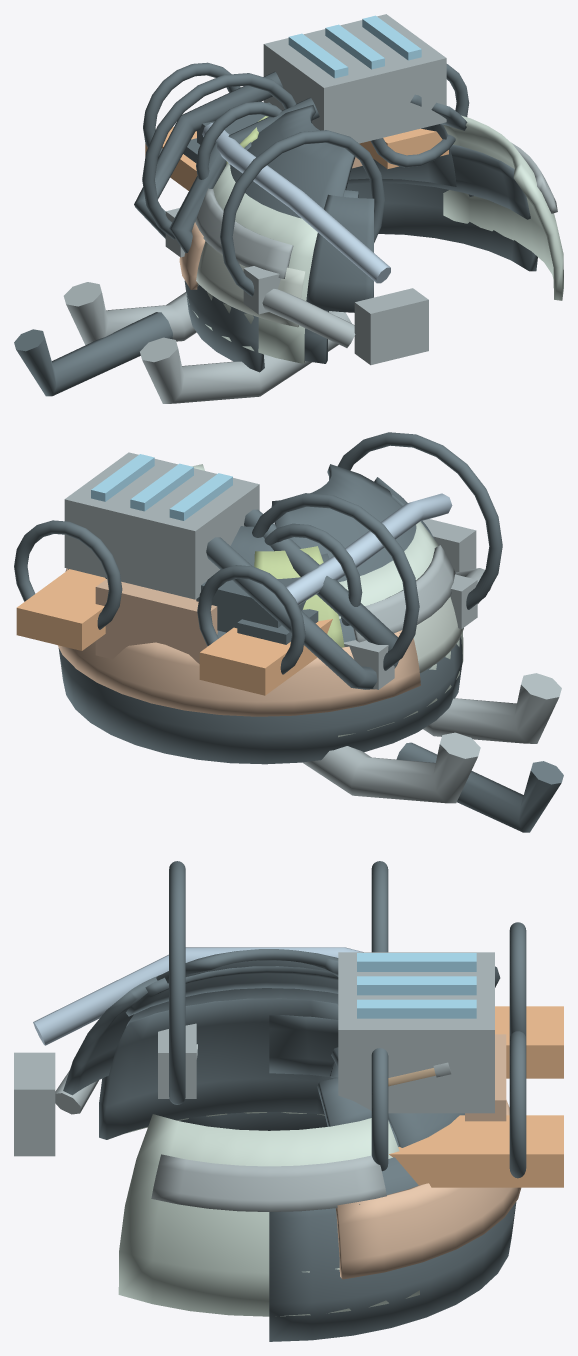
File: weapon-mount.glb
The picture shows the model from 3 angles, top to bottom: view 1: azimuth 30°, elevation 25°; view 2: azimuth 150°, elevation 25°; view 3: azimuth 270°, elevation 25°; orthographic projection. The views are drawn at different scales.
Parts seen in each view (by area): view 1: chain:mount-carbon (×2), bazooka:mount-carbon (×3), photon:mount-steel, dual:mount-dual (×2), chain:mount-steel (×2), flamethrower:mount-carbon (×4), photon:mount-carbon (×2), sniper:mount-carbon, sniper:mount-steel, sniper:mount-sniper, dual:mount-steel (×2), dual:mount-carbon (+8 smaller); view 2: chain:mount-carbon (×2), chain:mount-chain (×2), photon:mount-steel, bazooka:mount-carbon (×3), chain:mount-steel (×2), flamethrower:mount-flamethrower (×2), flamethrower:mount-carbon (×3), photon:mount-carbon (×3), photon:mount-photon (×3), sniper:mount-sniper, dual:mount-steel, dual:mount-dual (+6 smaller); view 3: dual:mount-dual, chain:mount-carbon, smg:mount-carbon, photon:mount-steel, chain:mount-chain (×2), flamethrower:mount-flamethrower (×2), dual:mount-steel, bazooka:mount-carbon (×3), photon:mount-photon (×3), flamethrower:mount-carbon (×3), shotgun:mount-carbon, sniper:mount-steel (+6 smaller).
Boxes of the visible parts, left/top/right/bottom form: chain:mount-carbon (×2): left=14, top=183, right=537, bottom=396; bazooka:mount-carbon (×3): left=142, top=73, right=385, bottom=296; photon:mount-steel: left=263, top=14, right=446, bottom=143; dual:mount-dual (×2): left=186, top=115, right=563, bottom=363; chain:mount-steel (×2): left=63, top=282, right=351, bottom=403; flamethrower:mount-carbon (×4): left=143, top=62, right=469, bottom=186; photon:mount-carbon (×2): left=134, top=71, right=319, bottom=253; sniper:mount-carbon: left=306, top=194, right=374, bottom=312; sniper:mount-steel: left=354, top=288, right=428, bottom=365; sniper:mount-sniper: left=202, top=123, right=390, bottom=283; dual:mount-steel (×2): left=195, top=142, right=557, bottom=278; dual:mount-carbon: left=348, top=144, right=530, bottom=219; chain:mount-carbon (×2): left=58, top=618, right=563, bottom=832; chain:mount-chain (×2): left=58, top=568, right=420, bottom=716; photon:mount-steel: left=64, top=452, right=259, bottom=599; bazooka:mount-carbon (×3): left=252, top=432, right=502, bottom=670; chain:mount-steel (×2): left=302, top=673, right=561, bottom=803; flamethrower:mount-flamethrower (×2): left=16, top=569, right=332, bottom=695; flamethrower:mount-carbon (×3): left=14, top=520, right=362, bottom=674; photon:mount-carbon (×3): left=105, top=509, right=398, bottom=689; photon:mount-photon (×3): left=91, top=454, right=232, bottom=520; sniper:mount-sniper: left=286, top=493, right=452, bottom=605; dual:mount-steel: left=353, top=545, right=456, bottom=642; dual:mount-dual: left=338, top=521, right=463, bottom=737; dual:mount-dual: left=118, top=1114, right=419, bottom=1316; chain:mount-carbon: left=179, top=1112, right=516, bottom=1341; smg:mount-carbon: left=99, top=998, right=338, bottom=1139; photon:mount-steel: left=338, top=952, right=494, bottom=1113; chain:mount-chain (×2): left=335, top=1034, right=521, bottom=1279; flamethrower:mount-flamethrower (×2): left=389, top=1006, right=563, bottom=1187; dual:mount-steel: left=151, top=1154, right=386, bottom=1211; bazooka:mount-carbon (×3): left=126, top=861, right=388, bottom=1104; photon:mount-photon (×3): left=357, top=953, right=476, bottom=1018; flamethrower:mount-carbon (×3): left=371, top=922, right=526, bottom=1178; shotgun:mount-carbon: left=126, top=966, right=389, bottom=1126; sniper:mount-steel: left=14, top=1052, right=55, bottom=1156.
Bounding box in the file's own units: 0.7909 × 0.427 × 0.5975.
